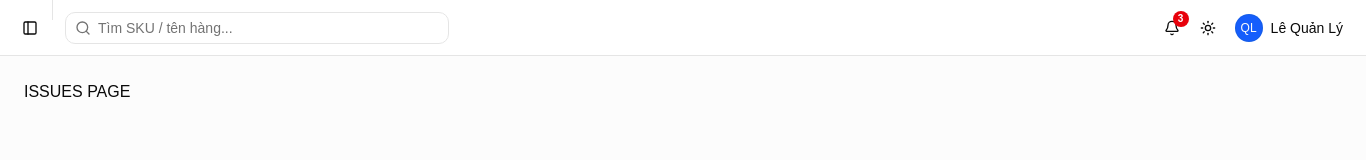
Test case: AppLayout / permission gating › global search jumps to the stock table filtered by the term
Expected: the text "ISSUES PAGE" is shown, [24,83,130,100]
Type "P002" into the field named "Tìm hàng trong kho" at (257, 28), box [65,12,449,44]
Then press Enter
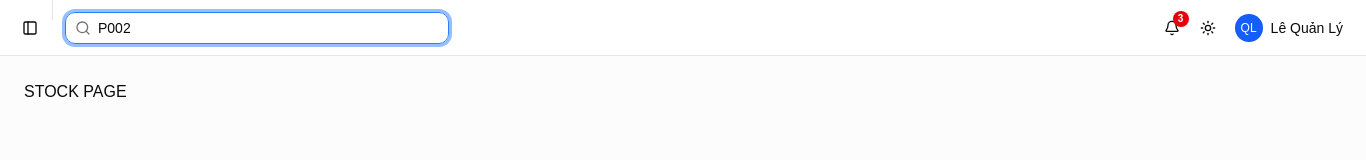
Expected: the text "STOCK PAGE" is shown, [24,83,126,100]
